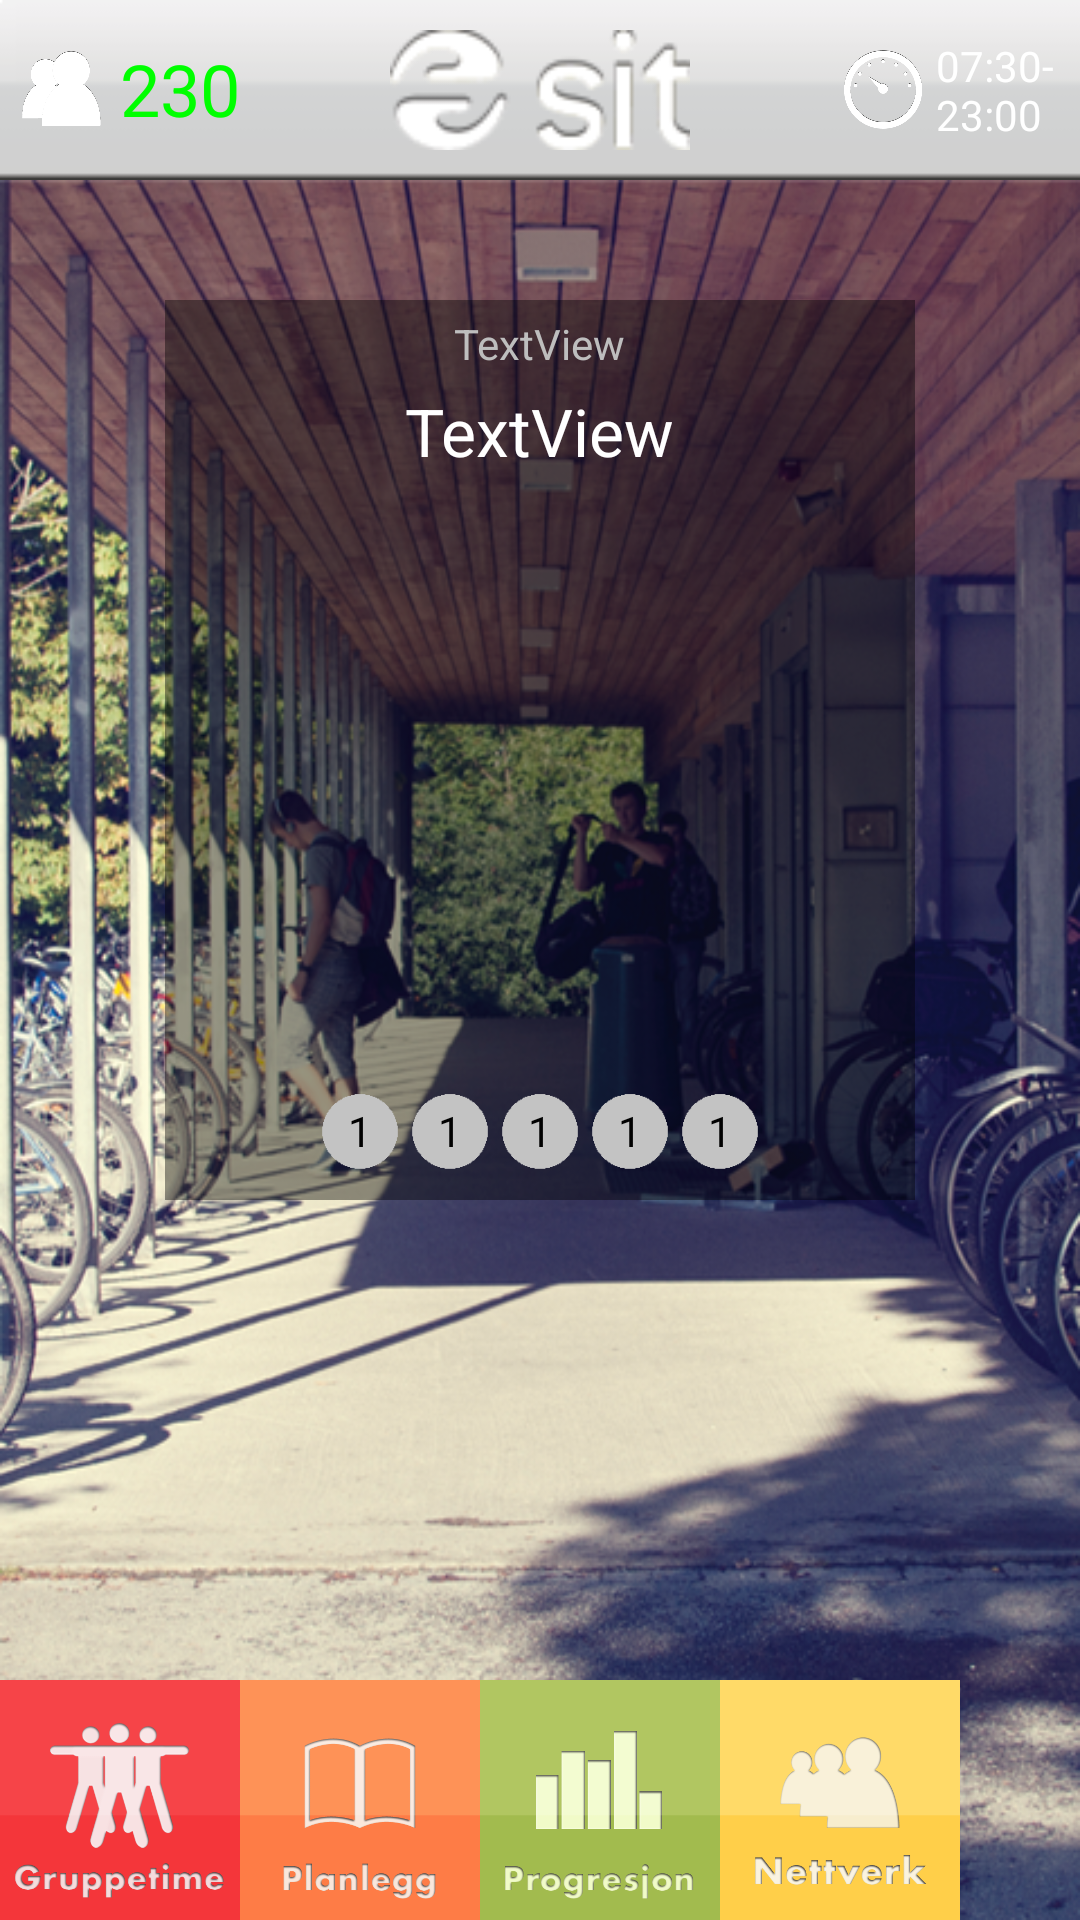

Where to tap for icons on this 1080*1920 app screen, as (x,y):
visitors: (61,88)
